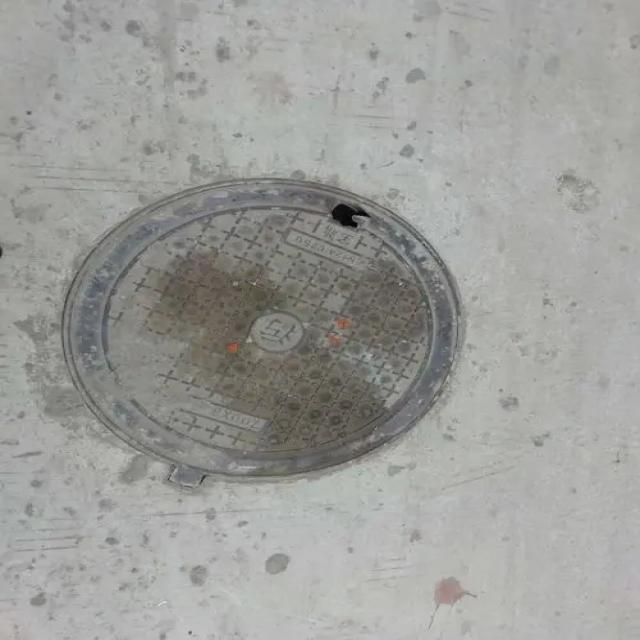manhole: (59, 177, 465, 489)
